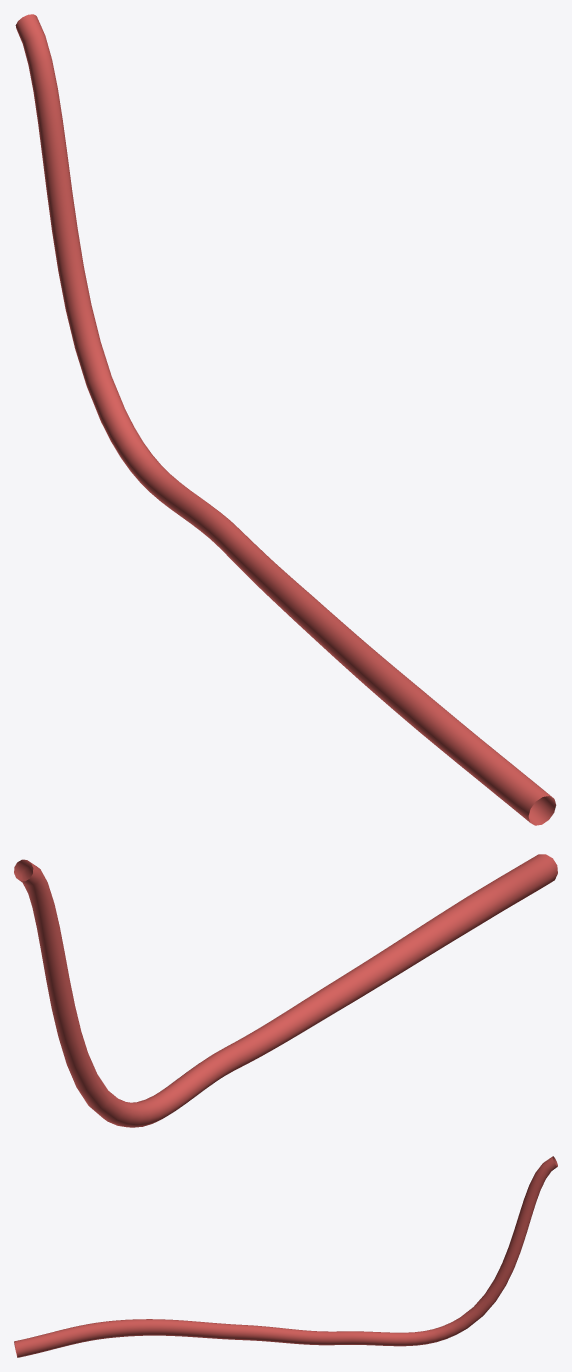
The picture shows the model from 3 angles, top to bottom: view 1: azimuth 30°, elevation 25°; view 2: azimuth 150°, elevation 25°; view 3: azimuth 270°, elevation 25°; orthographic projection. The views are drawn at different scales.
Parts seen in each view (by area): view 1: 左侧尺侧下副动脉; view 2: 左侧尺侧下副动脉; view 3: 左侧尺侧下副动脉.
Boxes of the visible parts, x1,y1,x2,y2 form: 左侧尺侧下副动脉: [15, 14, 556, 825]; 左侧尺侧下副动脉: [14, 854, 557, 1127]; 左侧尺侧下副动脉: [14, 1156, 557, 1357].
Size of the model in its own units: 0.00692 by 0.039 by 0.0932.
